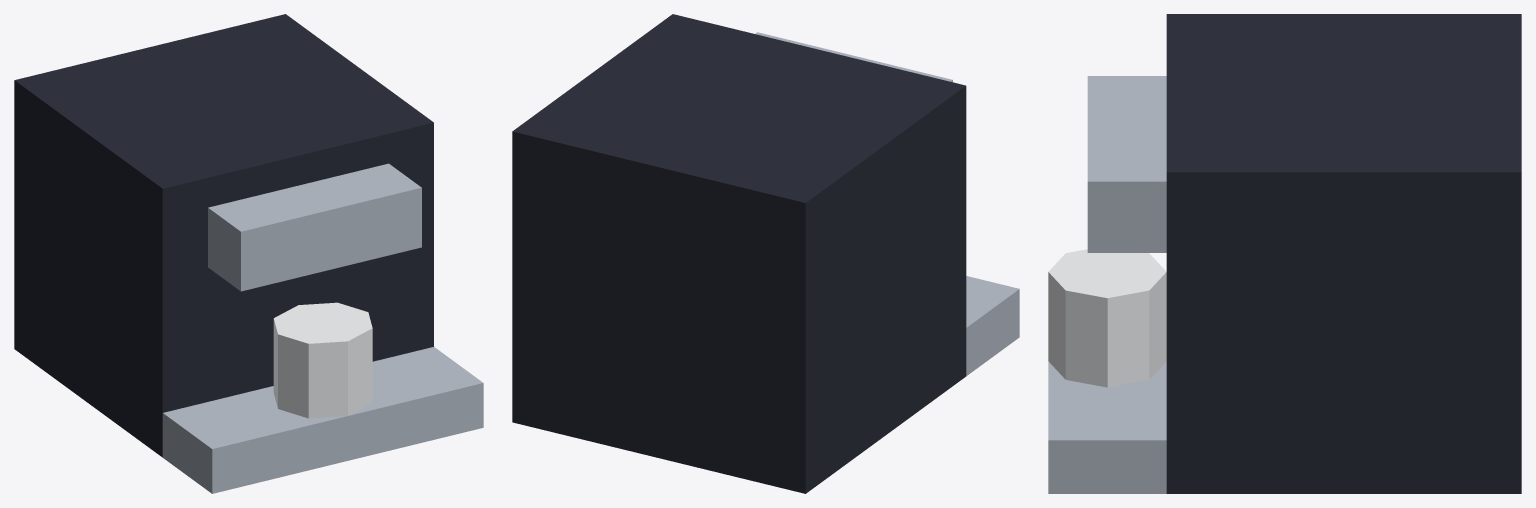
File: kitchenCoffeeMachine.glb
3 renders of one model, left to right at view 1: azimuth 30°, elevation 25°; view 2: azimuth 150°, elevation 25°; view 3: azimuth 270°, elevation 25°, orthographic. The views are drawn at different scales.
Parts seen in each view (by area): view 1: kitchenCoffeeMachine; view 2: kitchenCoffeeMachine; view 3: kitchenCoffeeMachine.
Part boxes in pixels (x1=…): kitchenCoffeeMachine: x1=14, y1=14, x2=483, y2=493; kitchenCoffeeMachine: x1=512, y1=14, x2=1019, y2=493; kitchenCoffeeMachine: x1=1048, y1=14, x2=1521, y2=493.
Bounding box in the file's own units: 0.19 × 0.18 × 0.24.
Materials: 1 (1 with a texture image).
